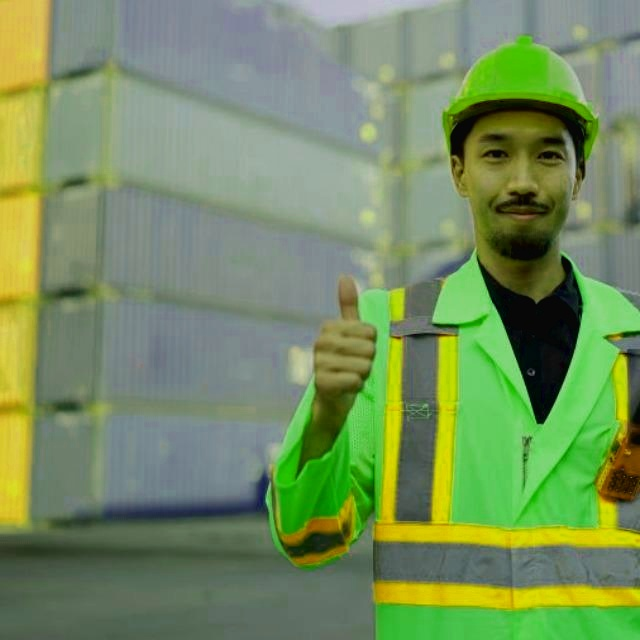Con_Casco: (442, 34, 598, 260)
Con_Chaleco: (370, 260, 636, 640)
